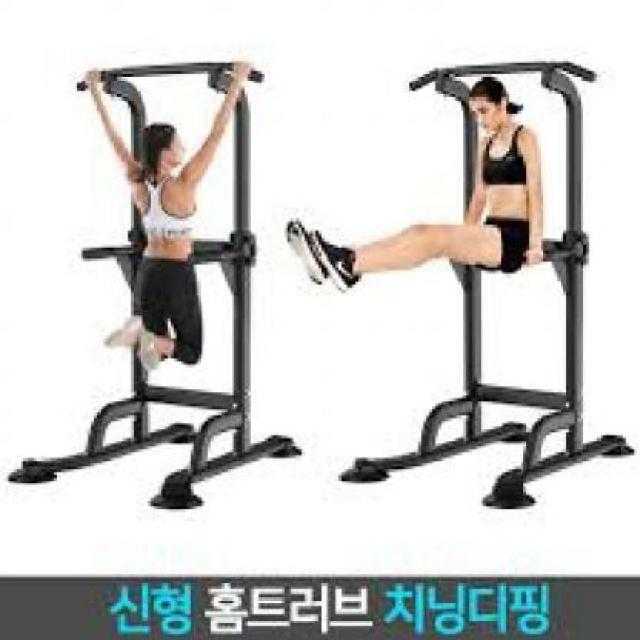chinning dipping: (343, 58, 635, 511), (9, 60, 288, 509)
